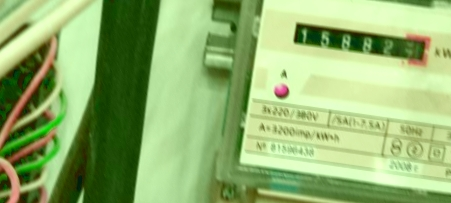1: (297, 26, 308, 43)
2: (380, 36, 392, 55)
5: (317, 29, 329, 46)
7: (401, 47, 412, 59)
8: (359, 35, 371, 53), (338, 33, 350, 50)
screen: (283, 12, 435, 72)
